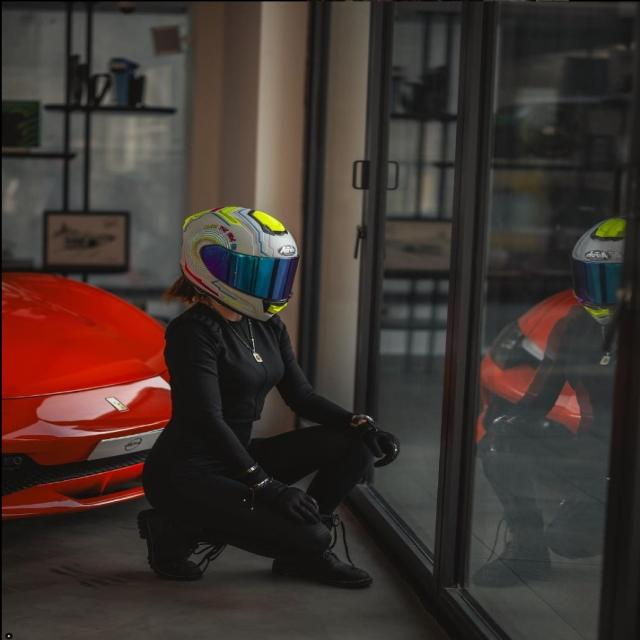helmet: (176, 201, 302, 326)
